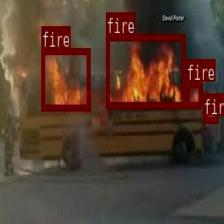fire: (106, 34, 184, 107), (41, 48, 90, 109), (203, 93, 217, 122), (186, 81, 201, 107)
